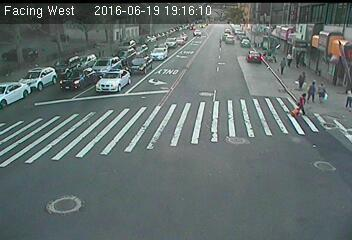neg: (118, 99, 141, 129), (191, 175, 213, 204), (204, 80, 224, 107), (303, 154, 323, 181), (65, 67, 85, 93), (63, 190, 82, 215), (210, 122, 229, 146), (99, 132, 117, 157), (145, 77, 163, 101), (245, 33, 263, 57), (31, 137, 47, 159), (66, 140, 82, 161), (26, 48, 42, 69), (104, 44, 119, 64), (170, 48, 184, 67), (238, 146, 252, 164), (32, 94, 45, 112)
pos: (293, 93, 312, 117), (316, 81, 332, 102), (306, 77, 322, 98), (298, 68, 312, 87), (278, 56, 291, 74), (283, 49, 296, 66)
